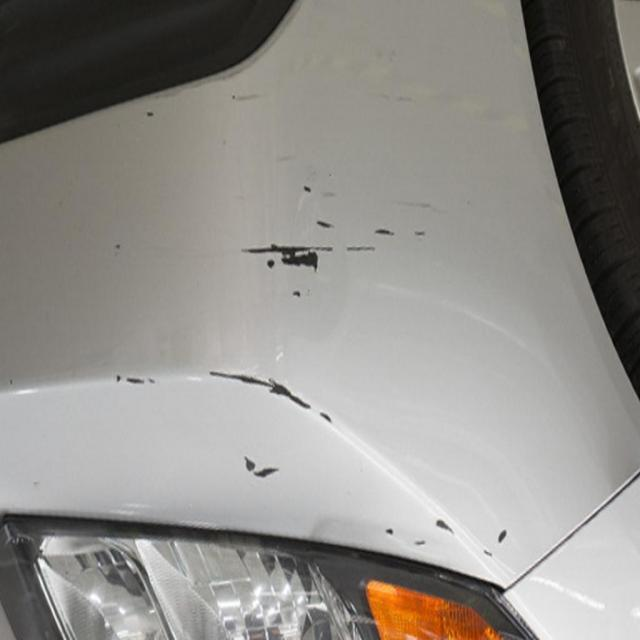scratch: (197, 158, 502, 620)
